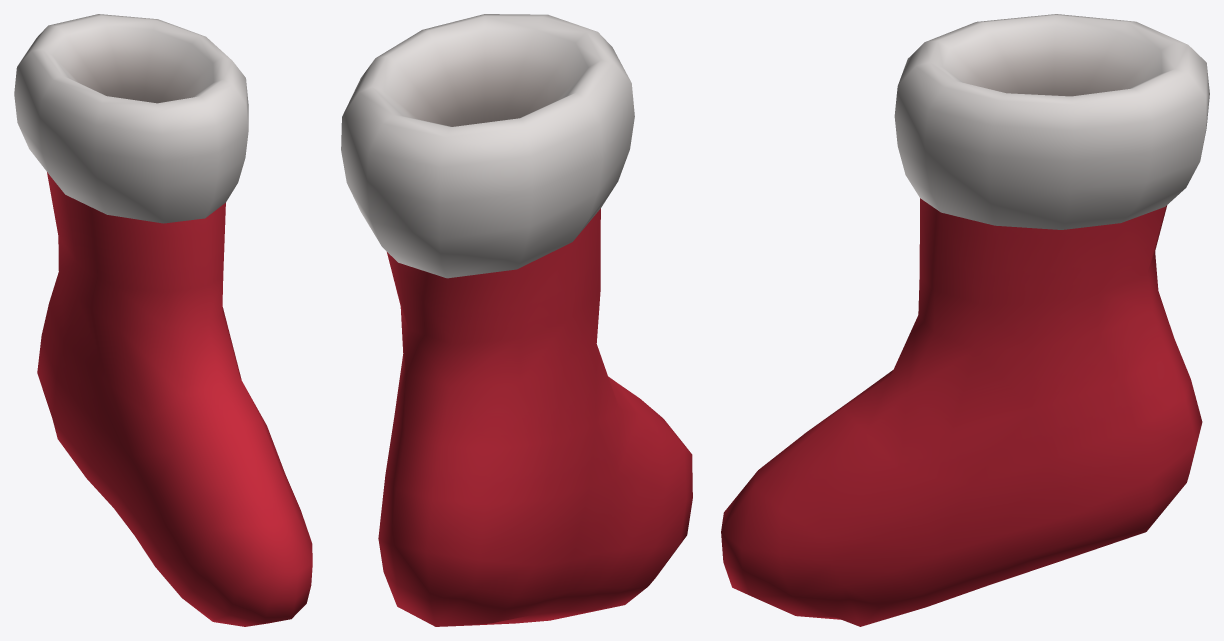
File: Christmass_sock_001.fbx
3 renders of one model, left to right at view 1: azimuth 30°, elevation 25°; view 2: azimuth 150°, elevation 25°; view 3: azimuth 270°, elevation 25°, orthographic. The views are drawn at different scales.
Parts seen in each view (by area): view 1: Christmass_sock_001; view 2: Christmass_sock_001; view 3: Christmass_sock_001.
Part boxes in pixels (left/top/right/bottom): Christmass_sock_001: left=14, top=14, right=312, bottom=626; Christmass_sock_001: left=341, top=14, right=692, bottom=626; Christmass_sock_001: left=721, top=14, right=1209, bottom=626.
Bounding box in the file's own units: 0.1081 × 0.2733 × 0.2168.
